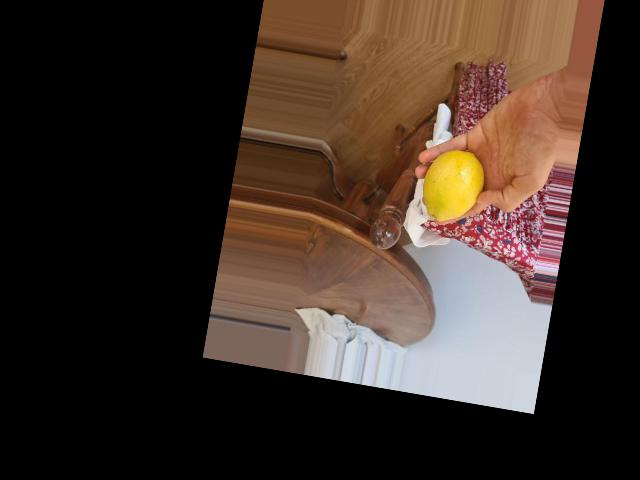lemon: (417, 143, 487, 228)
